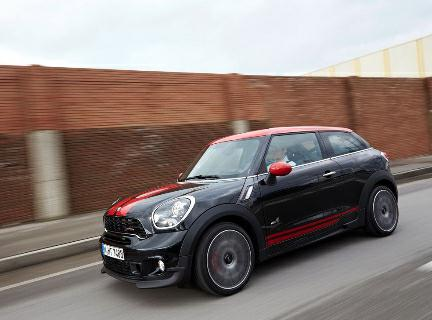MINI-JCWPACEMAN: (93, 123, 409, 293)
